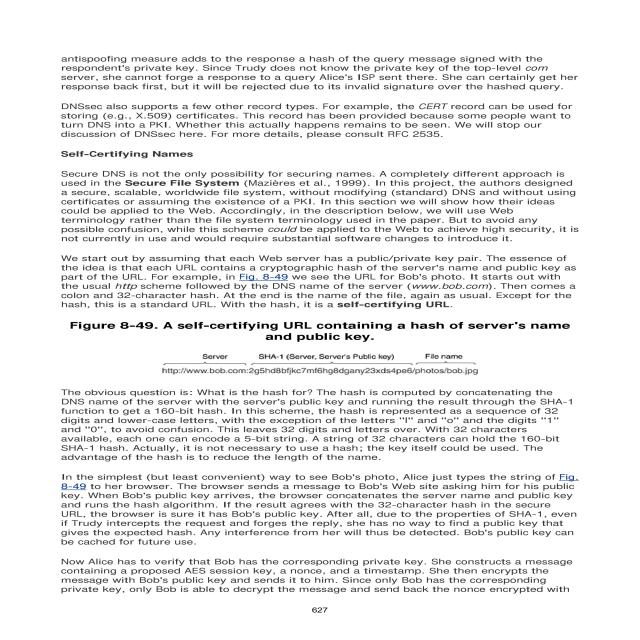diagram: (39, 313, 615, 385)
